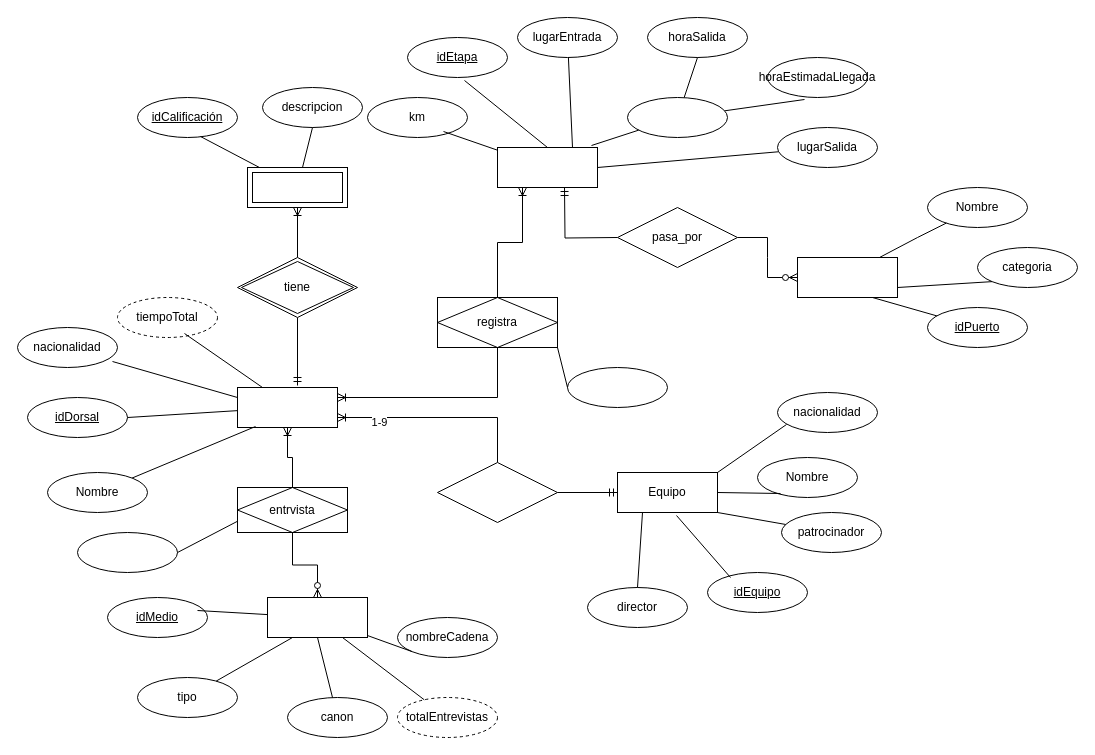
The diagram is 1095 pixels wide and 755 high, and some of its shapes have lost their labels. Here are the shapes that lost their labels. From the top down, the centre of each, then its label:
At point (677, 117): "fecha".
At point (297, 187): "Palmares".
At point (547, 167): "Etapa".
At point (847, 277): "Puerto".
At point (287, 407): "Ciclista".
At point (617, 387): "tiempo".
At point (497, 492): "compone".
At point (127, 552): "fechaEntrevista".
At point (317, 617): "Medio".
